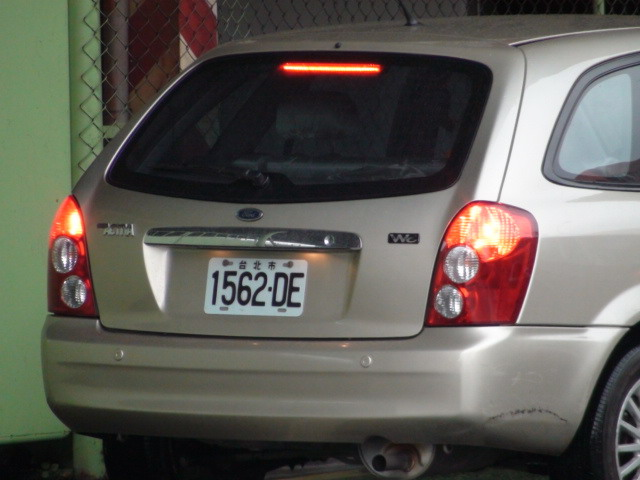plate: (204, 253, 310, 322)
